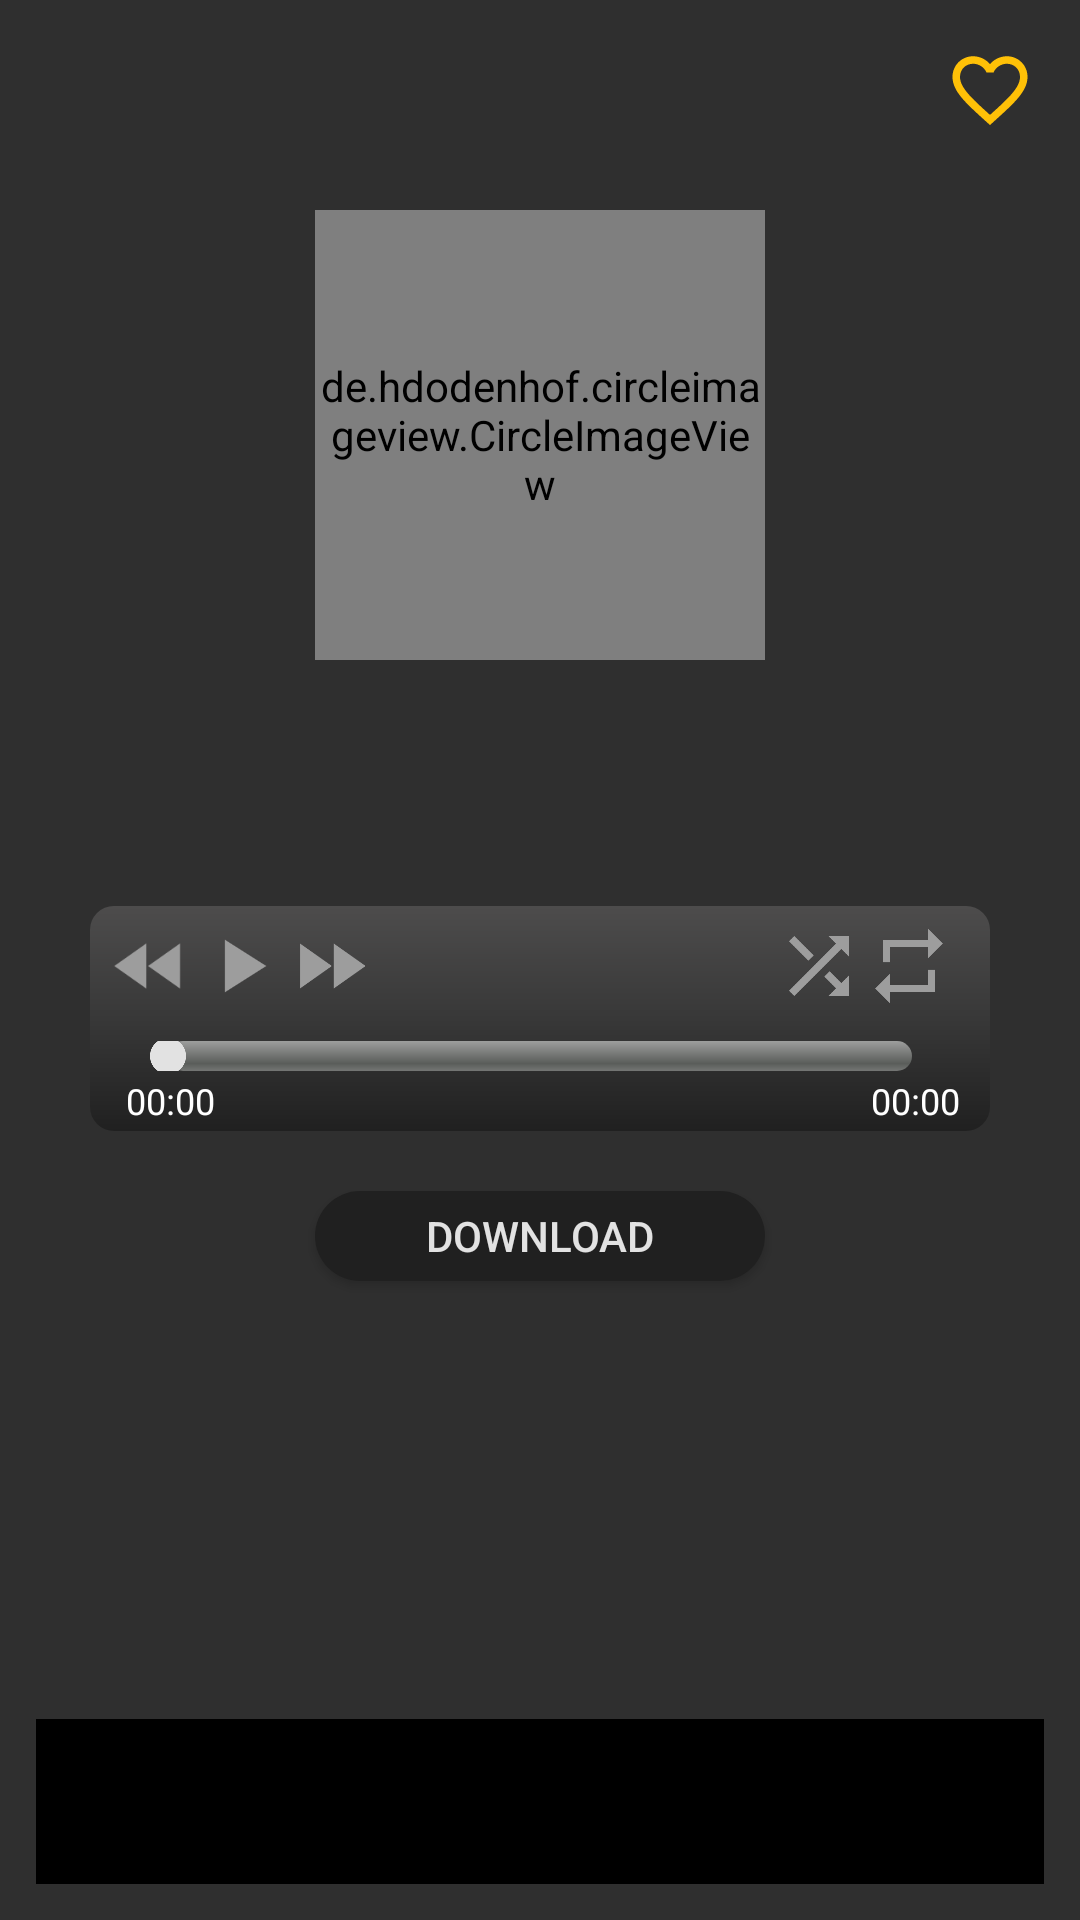

Named icons in this screenshot (1080px x 1920px) and their centers, (x,y):
fast forward: (332,966)
fast rewind: (147,965)
favorite border: (990,90)
play arrow: (245,966)
repeat: (909,966)
shuffle: (819,966)
